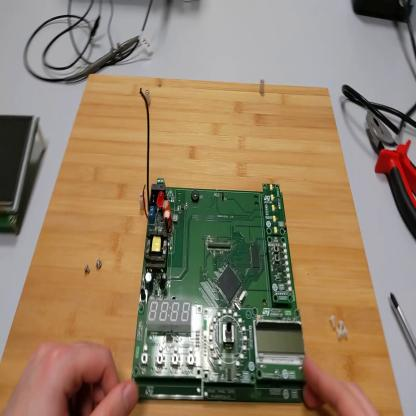hand: (4, 340, 141, 416), (302, 353, 377, 416)
low voltage board: (131, 84, 305, 403)
oscilloscope probe tip: (65, 38, 140, 82)
pliers: (366, 111, 416, 239)
screwdriver-: (390, 291, 416, 351)
welder station: (353, 1, 414, 27)
working area: (2, 78, 405, 416)
